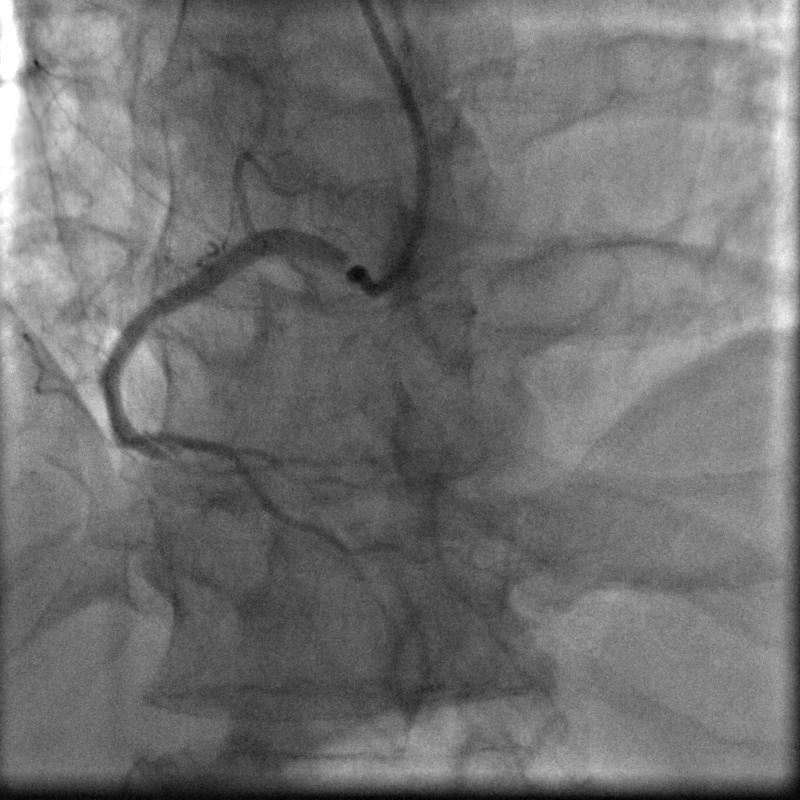Stenosis: (148, 430, 200, 469)
